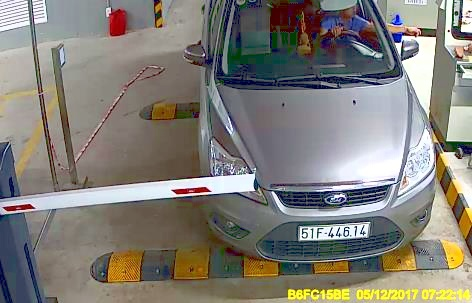plate: (293, 220, 377, 240)
